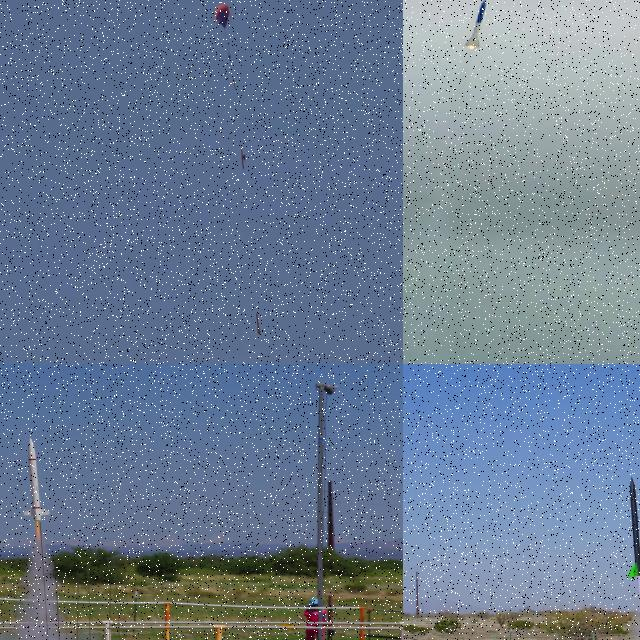Rocket: (20, 436, 54, 523), (626, 476, 640, 578), (464, 0, 488, 47), (256, 313, 262, 336)
